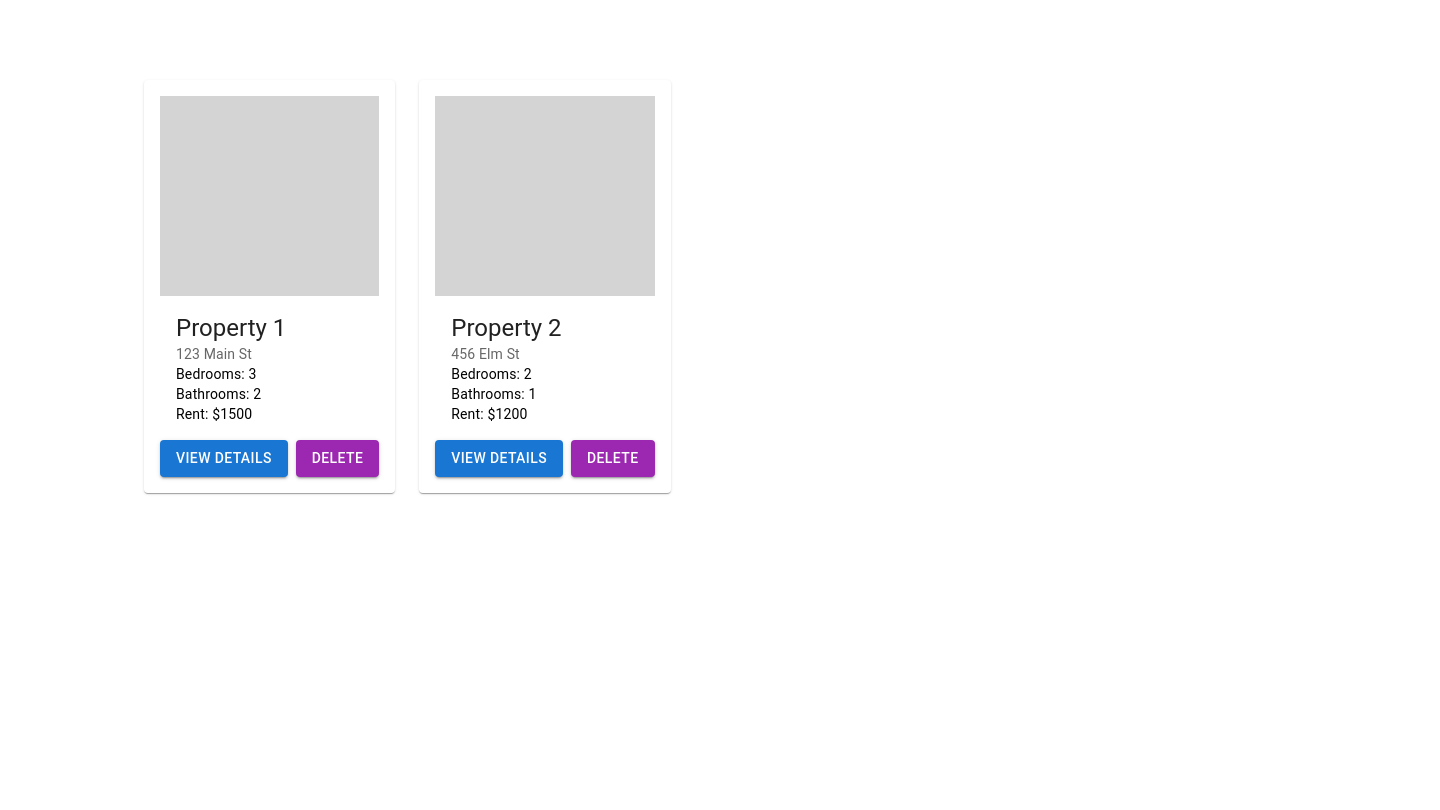
PropertiesList Component › closes the details dialog when Cancel is clicked
The width and height of the screenshot is (1440, 810).
Check: the heading "Property 1" is shown, box [176,314,286,342]
Note: Open the details dialog
Click the button "View Details" below "1500": (224, 458) [160,440,288,477]
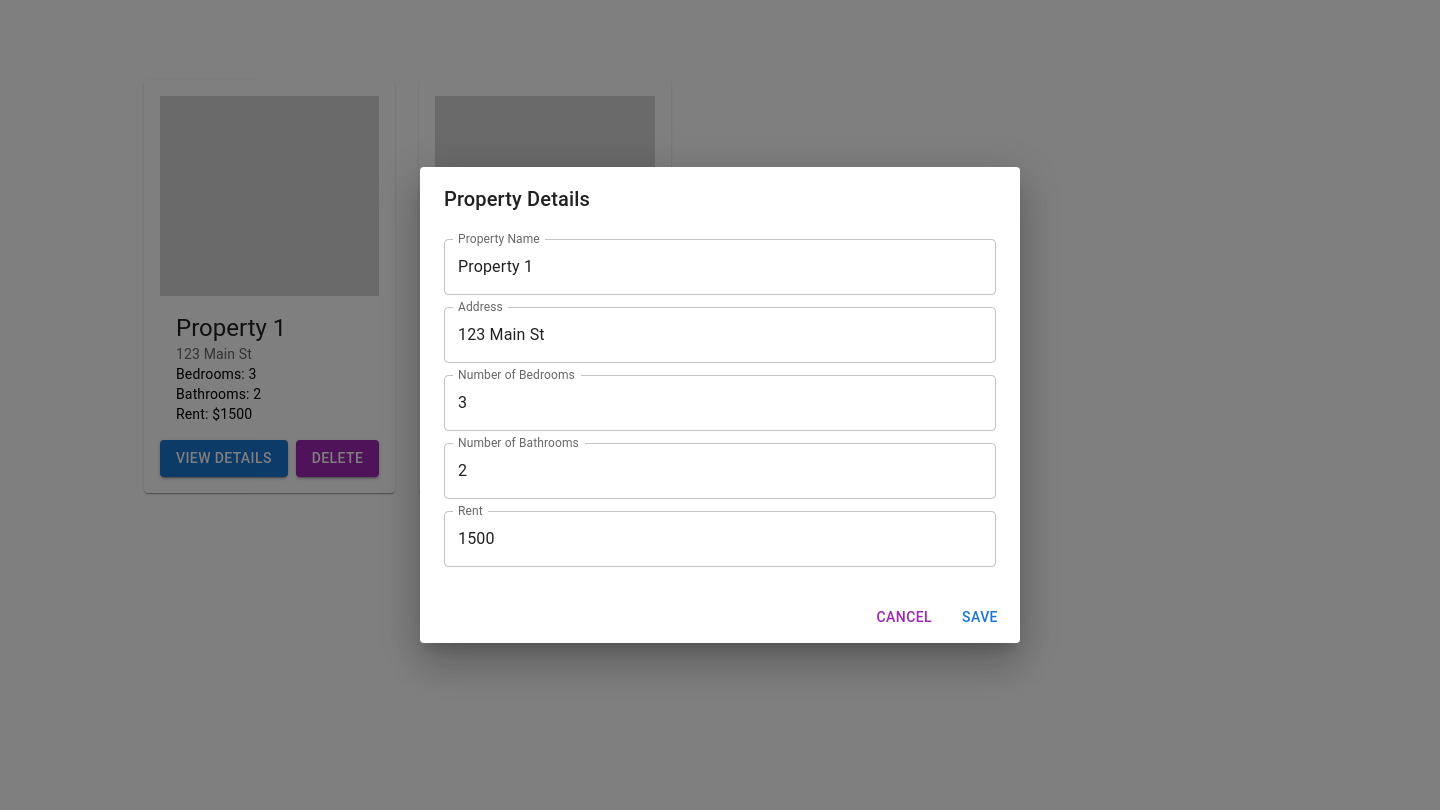
Check: the field labelled "Property Name" is shown, box [444,239,996,295]
Note: Click Cancel button
Click the button "Cancel": (904, 617) [868,599,940,635]
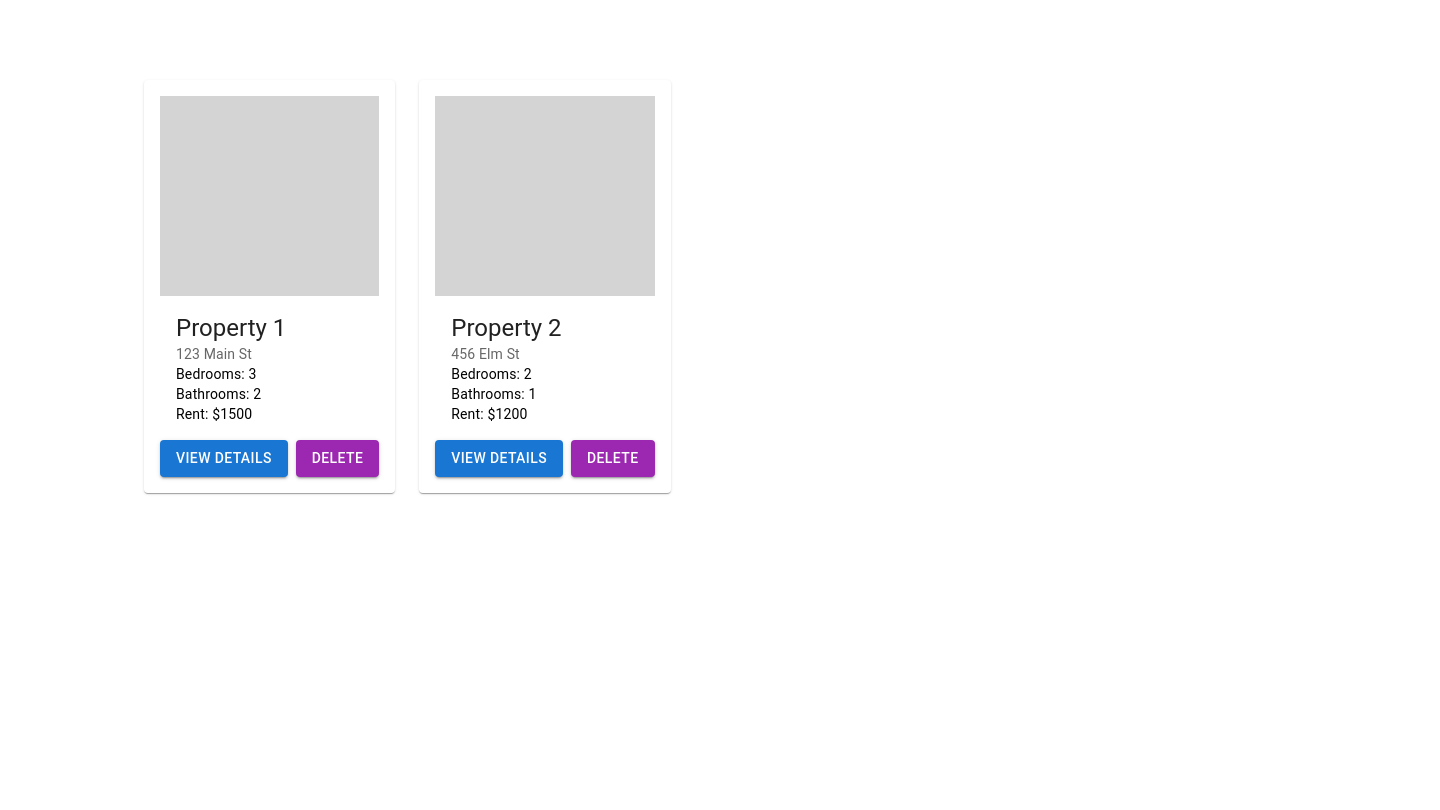
Check: the label labelled "Property Name" is gone
